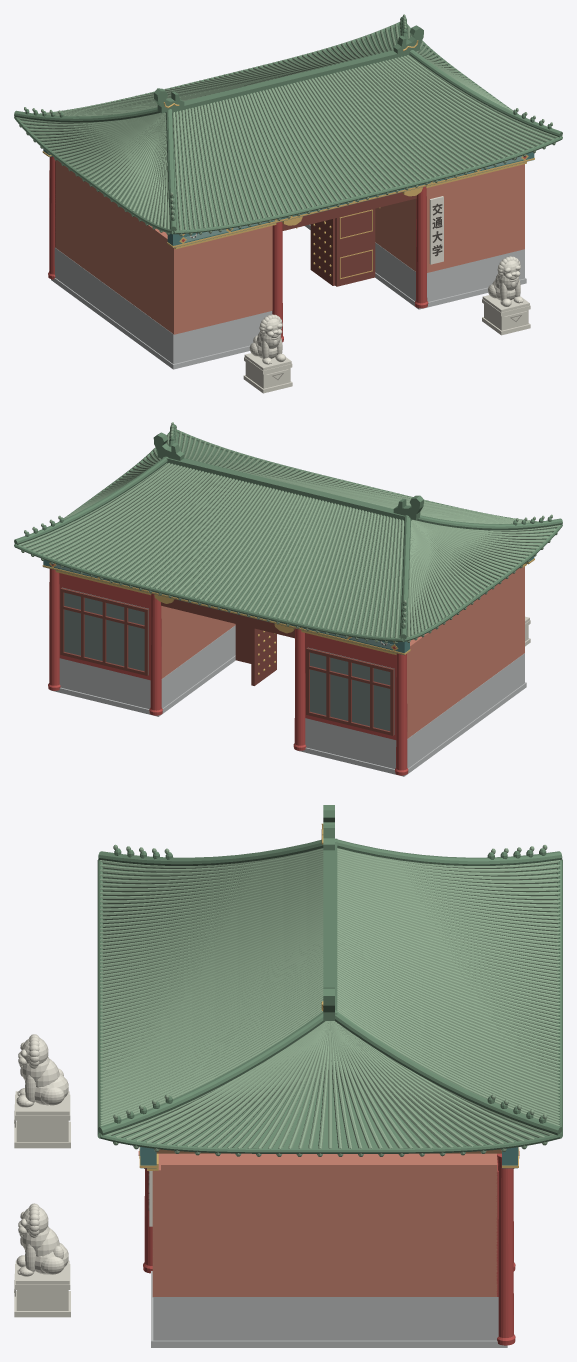
File: xuhui-nanyang-campus-gate-web.glb
3 renders of one model, top to bottom at view 1: azimuth 30°, elevation 25°; view 2: azimuth 150°, elevation 25°; view 3: azimuth 270°, elevation 25°, orthographic. The views are drawn at different scales.
Visible parts, largest first — view 1: 交通大学徐汇校区老校门（南洋公学旧址）; view 2: 交通大学徐汇校区老校门（南洋公学旧址）; view 3: 交通大学徐汇校区老校门（南洋公学旧址）.
Boxes of the visible parts, left/top/right/bottom form: 交通大学徐汇校区老校门（南洋公学旧址）: left=14, top=14, right=562, bottom=393; 交通大学徐汇校区老校门（南洋公学旧址）: left=14, top=422, right=562, bottom=776; 交通大学徐汇校区老校门（南洋公学旧址）: left=14, top=805, right=562, bottom=1347.
Size of the model in its own units: 16.39 by 8.91 by 13.63.
